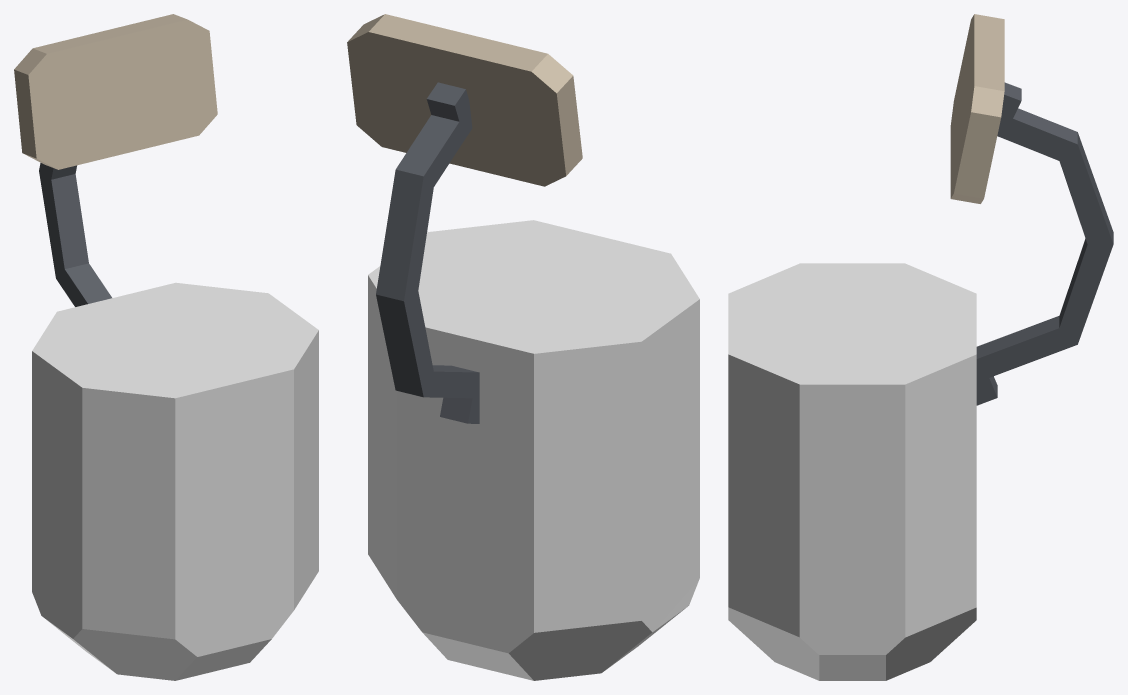
File: SM_Prop_Stool_02.fbx
3 renders of one model, left to right at view 1: azimuth 30°, elevation 25°; view 2: azimuth 150°, elevation 25°; view 3: azimuth 270°, elevation 25°, orthographic. The views are drawn at different scales.
Visible parts, largest first — view 1: SM_Prop_Stool_02_ConvexHulls, SM_Prop_Stool_02_LOD0; view 2: SM_Prop_Stool_02_ConvexHulls, SM_Prop_Stool_02_LOD0; view 3: SM_Prop_Stool_02_ConvexHulls, SM_Prop_Stool_02_LOD0.
Boxes of the visible parts, x1=… form: SM_Prop_Stool_02_ConvexHulls: x1=32, y1=282, x2=318, y2=680; SM_Prop_Stool_02_LOD0: x1=14, y1=14, x2=217, y2=306; SM_Prop_Stool_02_ConvexHulls: x1=368, y1=220, x2=699, y2=680; SM_Prop_Stool_02_LOD0: x1=347, y1=14, x2=582, y2=423; SM_Prop_Stool_02_ConvexHulls: x1=728, y1=263, x2=976, y2=680; SM_Prop_Stool_02_LOD0: x1=950, y1=14, x2=1113, y2=405.
Bounding box in the file's own units: 72.46 × 53.9 × 123.
Materials: 1 (1 with a texture image).
